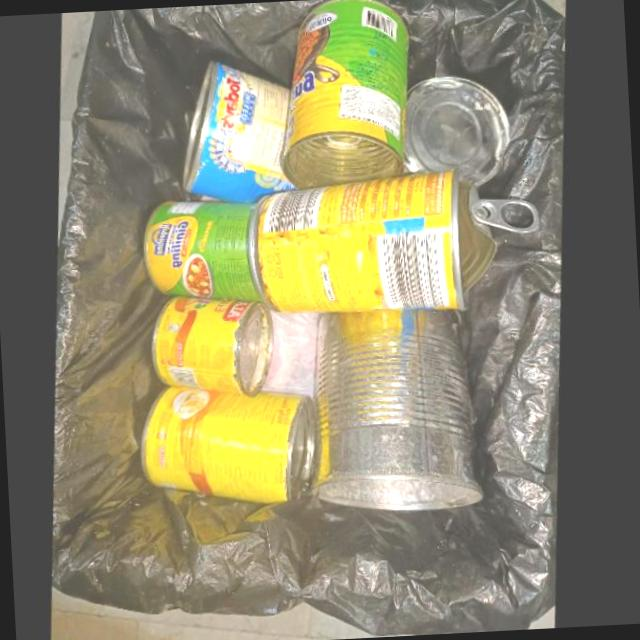nhom: (247, 170, 541, 314), (310, 310, 484, 514), (279, 0, 410, 192), (140, 387, 320, 505), (182, 62, 296, 205), (151, 297, 273, 398), (143, 202, 261, 303), (403, 77, 510, 188)
